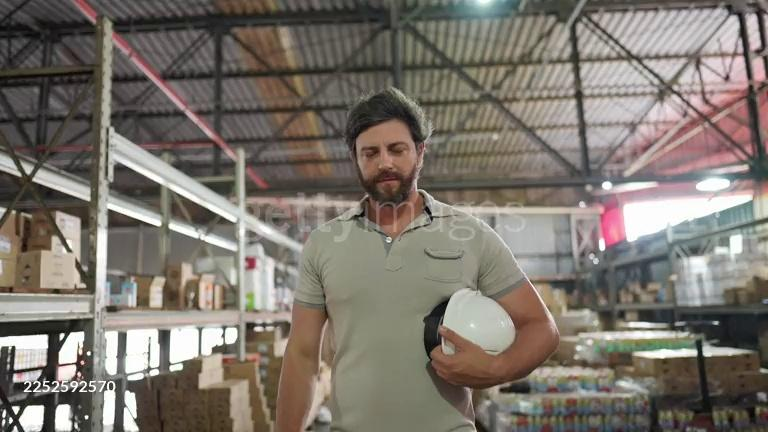helmet: (423, 288, 516, 373)
person: (274, 87, 561, 432)
